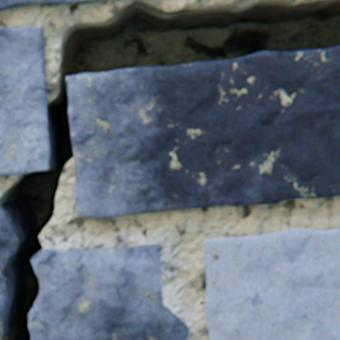brick: (66, 48, 339, 218), (203, 229, 339, 339), (0, 28, 49, 176), (0, 0, 109, 11)
broken_brick: (28, 245, 187, 339), (0, 208, 18, 336)
crack: (0, 0, 339, 339)
